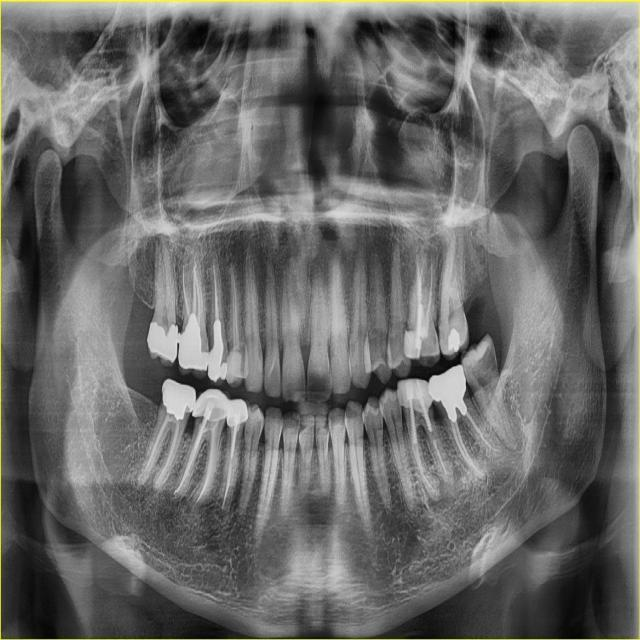71: (412, 379, 434, 435), (193, 400, 215, 452), (405, 378, 418, 442), (230, 406, 241, 458), (414, 297, 424, 352)
74: (445, 417, 486, 481), (173, 421, 208, 495), (192, 424, 222, 509), (138, 415, 172, 477), (154, 420, 182, 489), (462, 410, 502, 456), (410, 441, 439, 498), (420, 262, 438, 337), (226, 263, 240, 350), (178, 264, 192, 320), (221, 457, 234, 511), (416, 264, 425, 338), (432, 440, 447, 476), (195, 272, 202, 328), (213, 263, 219, 319), (192, 256, 197, 315)
NucleOSS Implant: (427, 364, 467, 422), (172, 314, 210, 373), (206, 320, 231, 383), (145, 321, 181, 362), (157, 382, 192, 422), (447, 327, 462, 351)
Sterngold Implant: (479, 337, 500, 377)
Straumann Implant: (396, 378, 435, 414), (402, 324, 433, 361), (225, 351, 242, 384)
Zimmer Implant: (156, 376, 200, 415), (192, 389, 231, 423), (227, 399, 249, 425)
